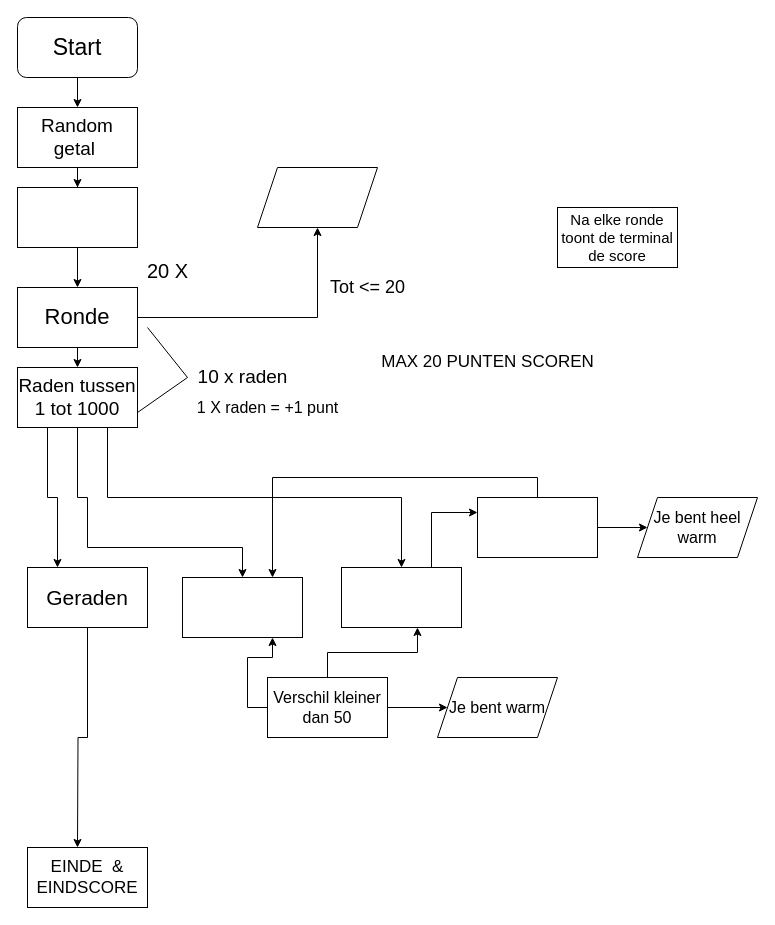
This 775x925 diagram has some shape labels left out. Here are the shapes that lost their labels. From the top down, the centre of each, then its label:
[77,217]: herhalen & getal raden
[317,197]: Nog een getal raden?
[537,527]: Verschil kleiner dan 20
[242,607]: Hoger
[401,597]: Lager
